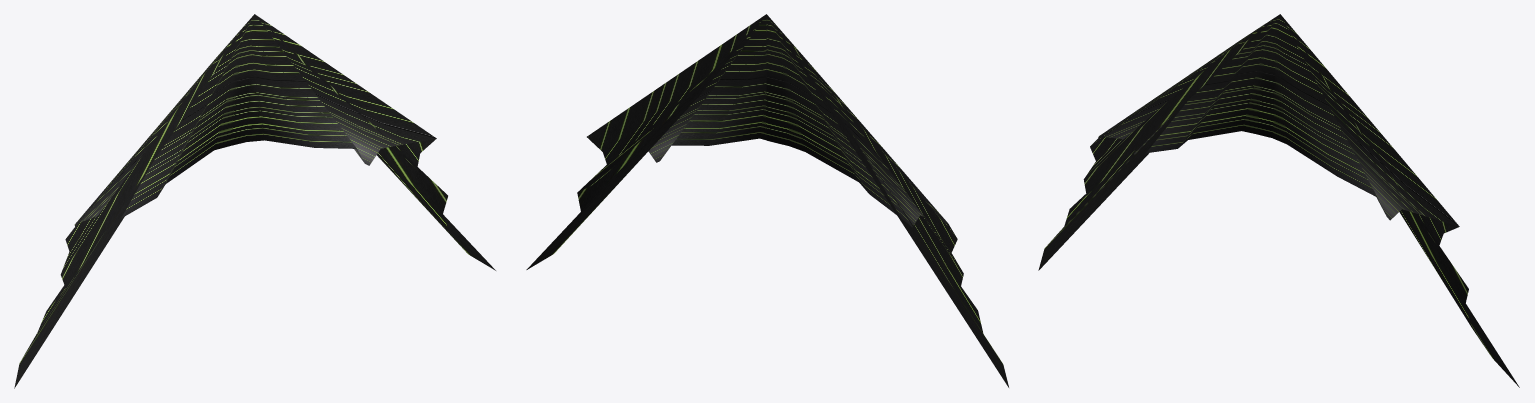
The picture shows the model from 3 angles, left to right: view 1: azimuth 30°, elevation 25°; view 2: azimuth 150°, elevation 25°; view 3: azimuth 330°, elevation 25°; orthographic projection.
Parts seen in each view (by area): view 1: Origami_Model_20; view 2: Origami_Model_20; view 3: Origami_Model_20.
Part boxes in pixels (box(x1,y1,x2,y2)): Origami_Model_20: box(14, 14, 495, 388); Origami_Model_20: box(526, 14, 1008, 387); Origami_Model_20: box(1038, 14, 1519, 387).
Bounding box in the file's own units: 0.8 × 0.5 × 0.01.
Materials: 1 (1 with a texture image).
